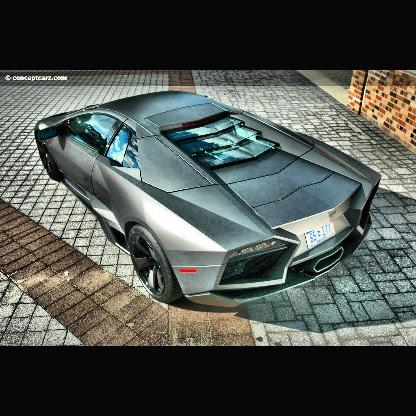Lamborghini Reventon Coupe 2008: (35, 92, 383, 308)
